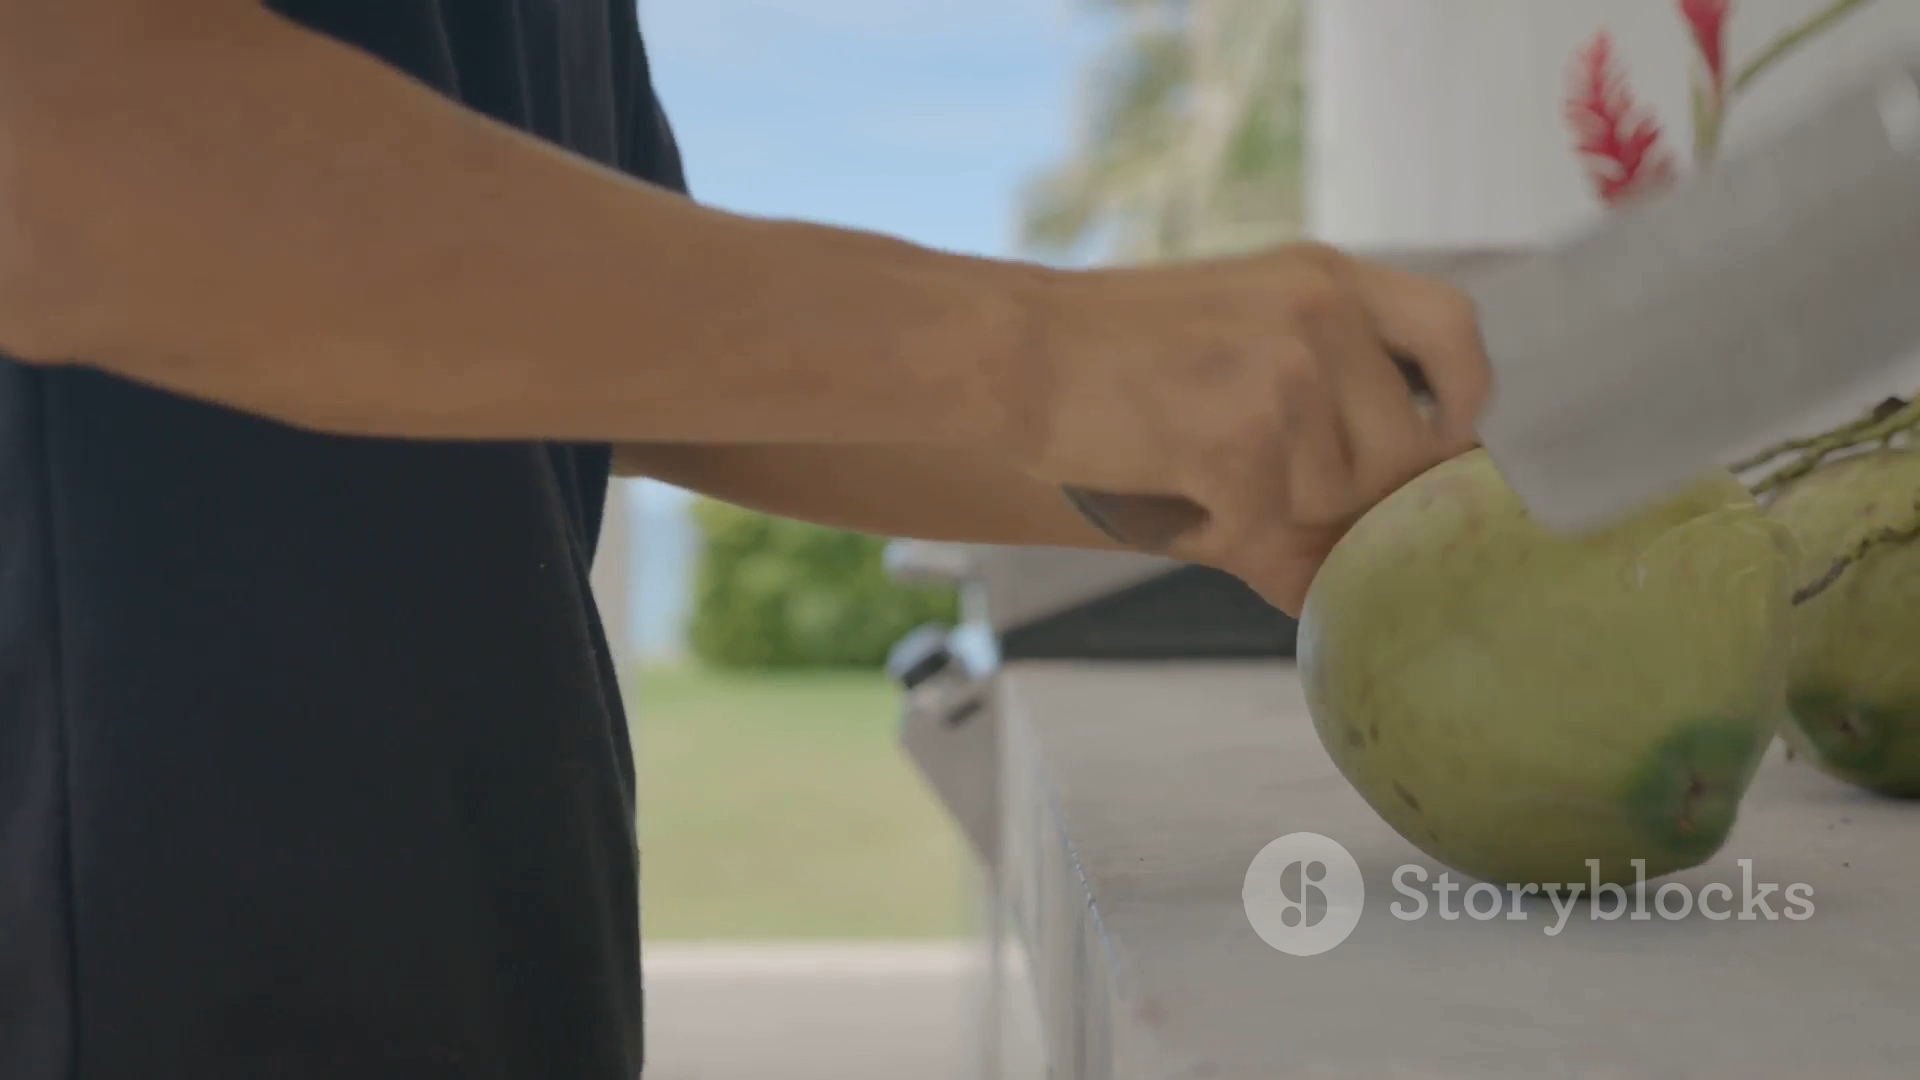cortante: (1455, 46, 1920, 529)
